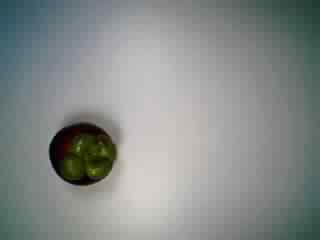mangosteen: (46, 111, 119, 191)
